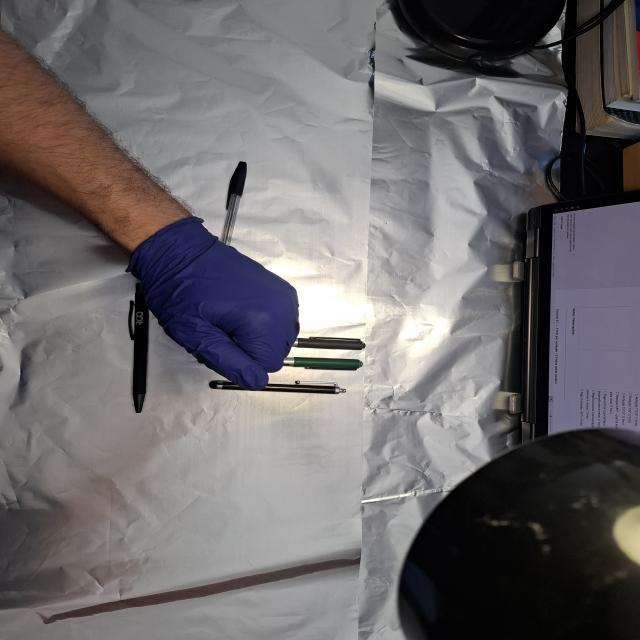glove_on: (118, 216, 304, 394)
